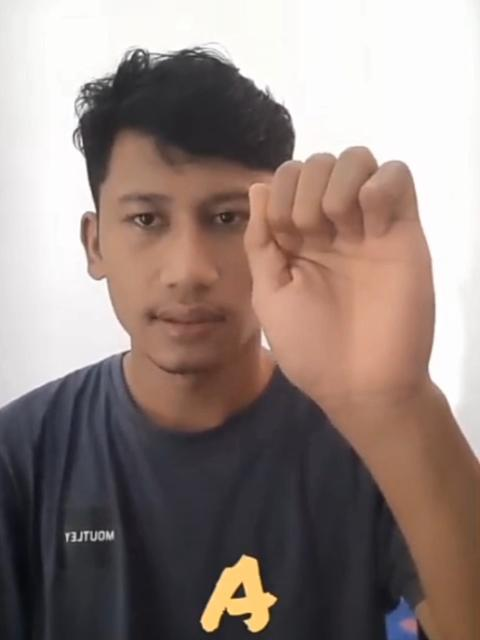A: (245, 144, 437, 422)
